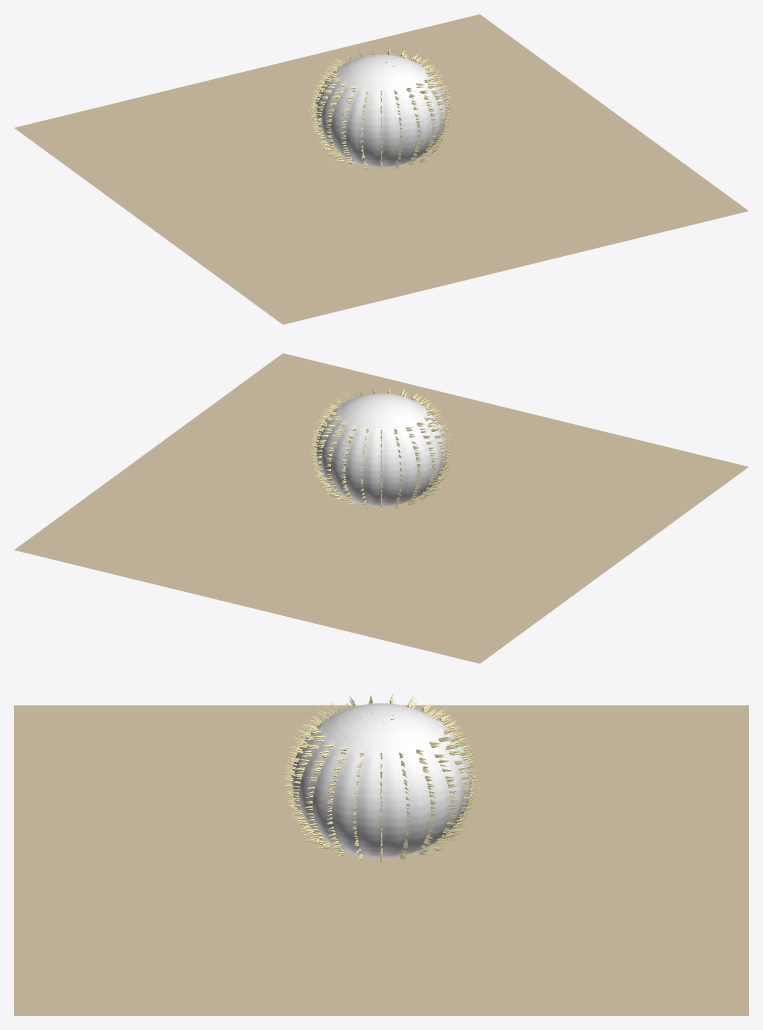
The picture shows the model from 3 angles, top to bottom: view 1: azimuth 30°, elevation 25°; view 2: azimuth 150°, elevation 25°; view 3: azimuth 270°, elevation 25°; orthographic projection. The views are drawn at different scales.
Size of the model in its own units: 5 by 1.13 by 5.
